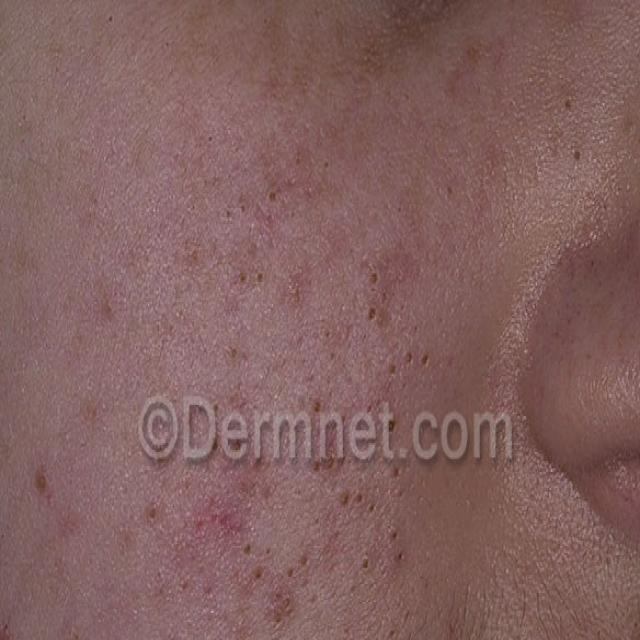Acne: (0, 144, 428, 640)
